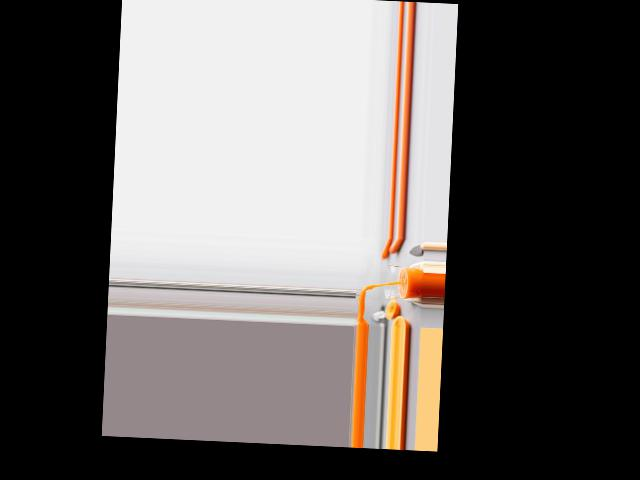carrot: (382, 238, 406, 261)
